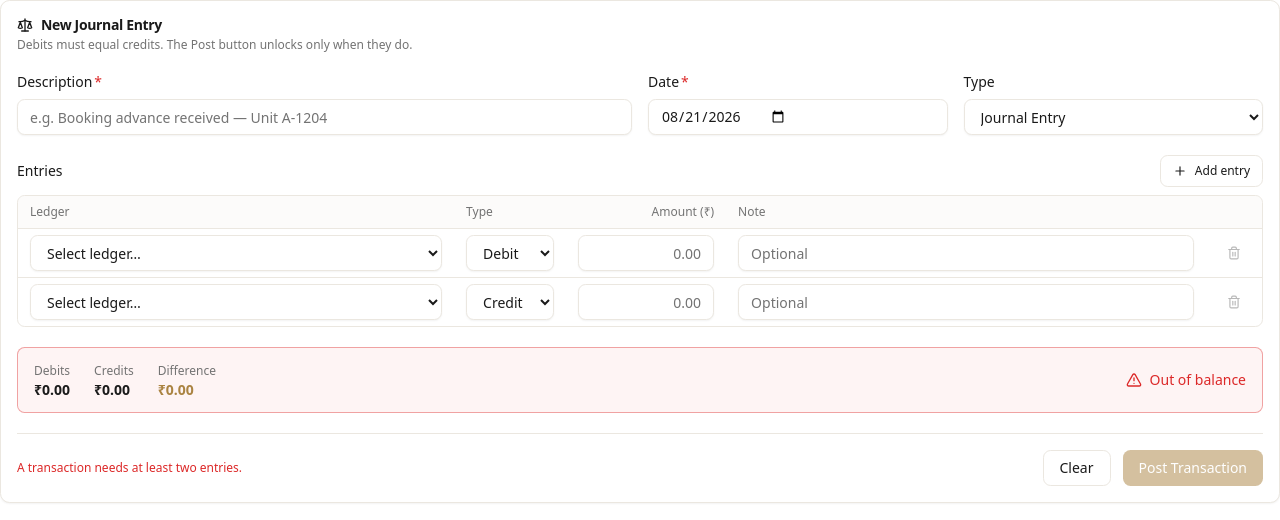
Test: Double-entry journal form — the balance gate › RE-BLOCKS the moment a balanced entry is edited out of balance
Select "1100 — Bank — Current" in the dropdown named "Ledger for entry 1" at point(236, 253), box [30, 235, 442, 271]
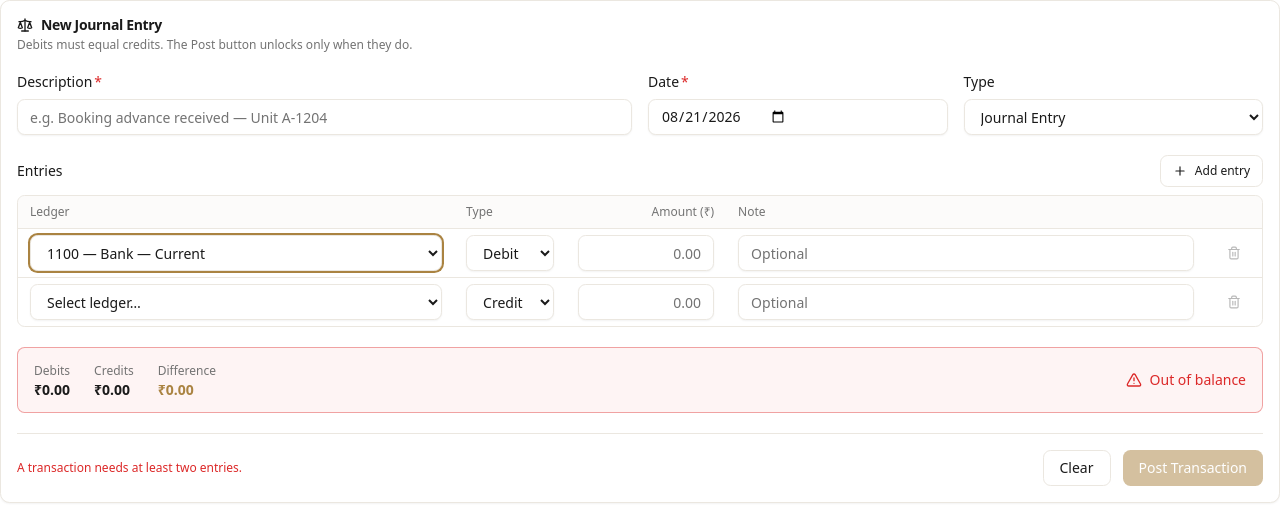
Select "4100 — Sales Revenue" in the dropdown named "Ledger for entry 2" at point(236, 302), box [30, 284, 442, 320]
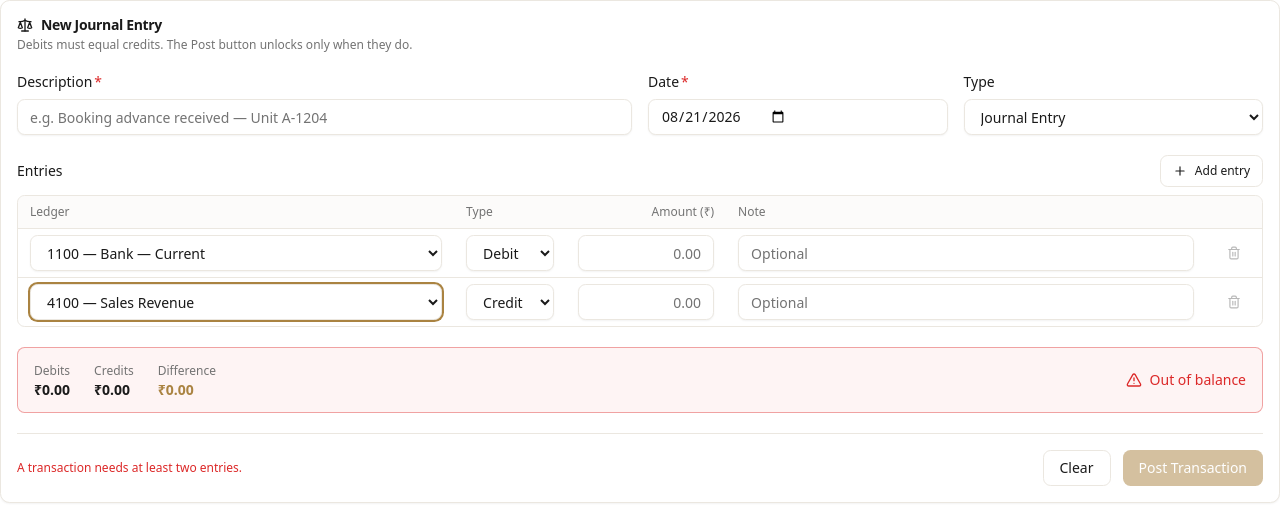
Type "Test entry" into the field labelled "Description*" at point(324, 117), box [17, 99, 632, 135]
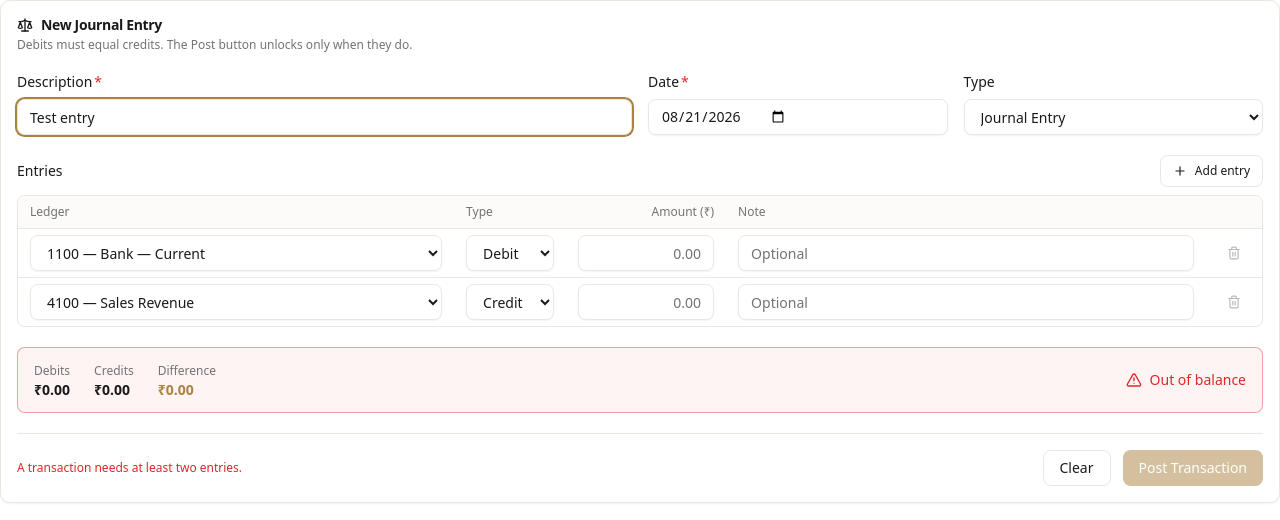
Type "500.00" into the field named "amount" at point(646, 253), box [578, 235, 714, 271]
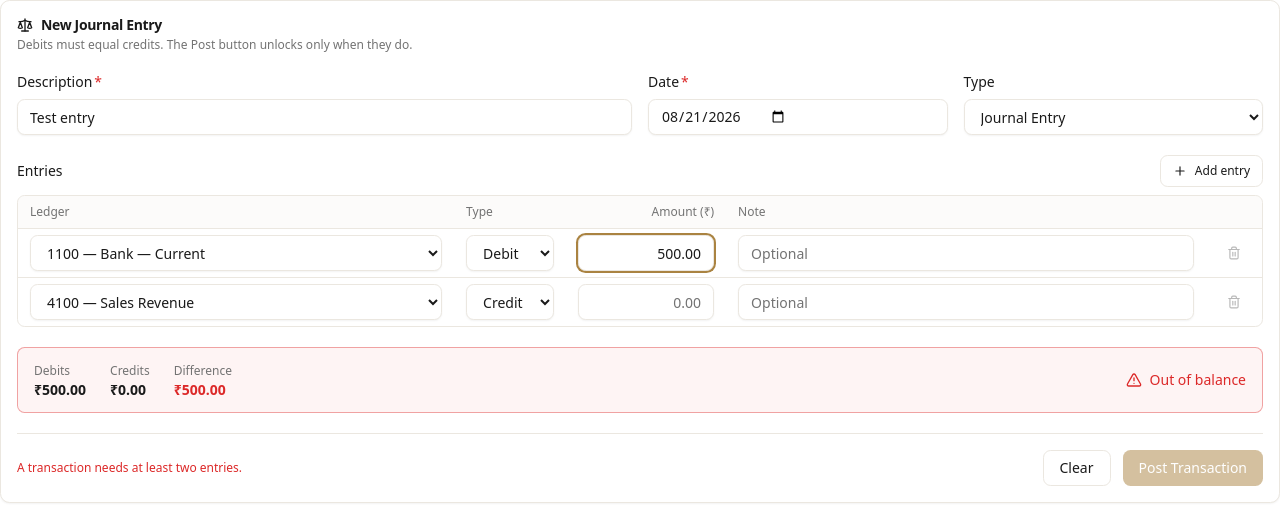
Type "500.00" into the field named "amount" at point(646, 302), box [578, 284, 714, 320]
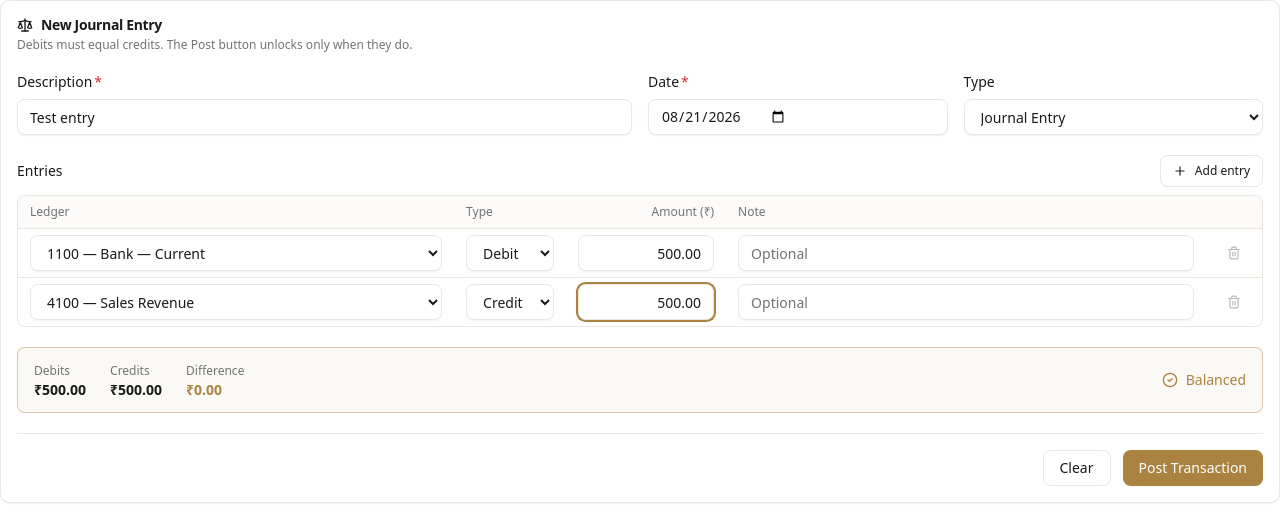
Expected: the button "Post Transaction" is enabled, [1122, 450, 1263, 486]
// Now break it — a single extra keystroke.
Type "0" into the field named "amount" at point(646, 302), box [578, 284, 714, 320]
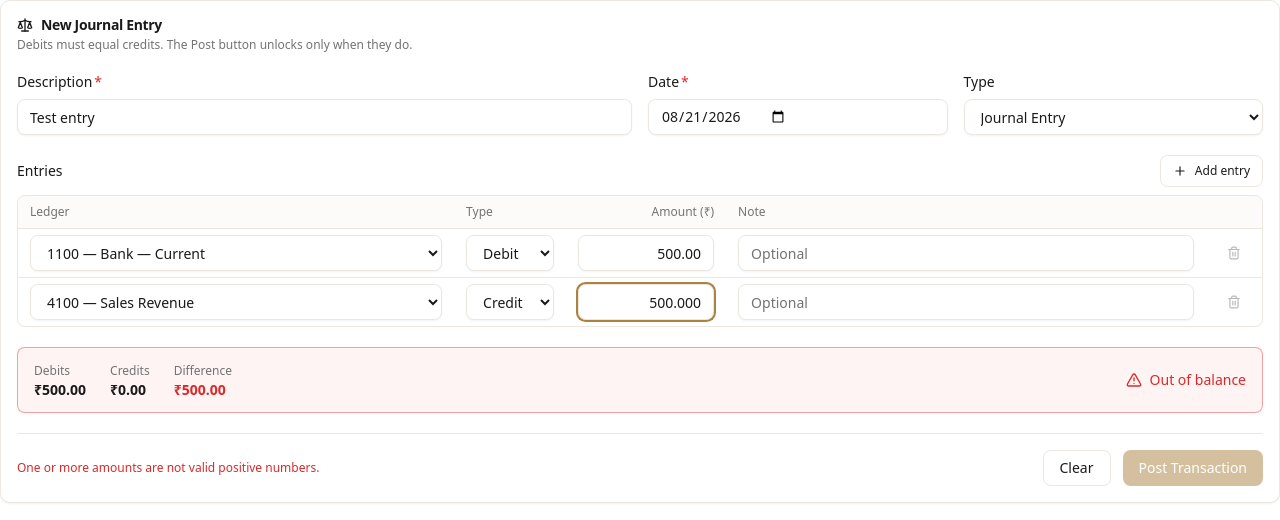
Expected: the button "Post Transaction" is disabled, [1122, 450, 1263, 486]
